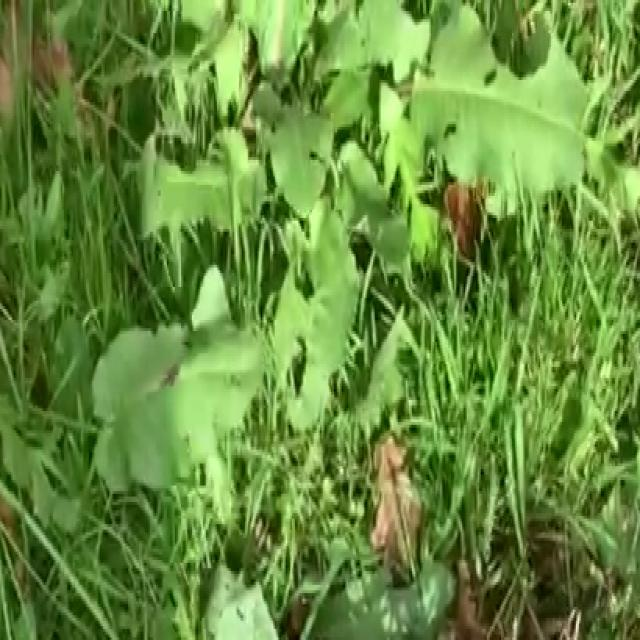organic waste: (84, 2, 596, 610)
